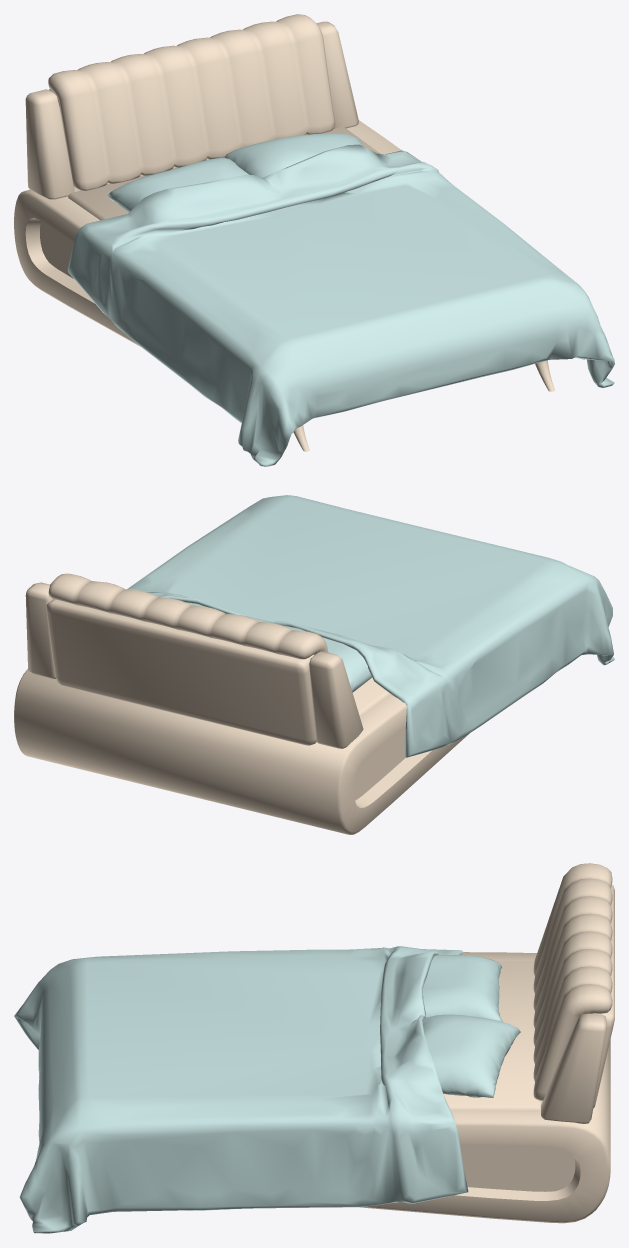
The model's file is SM_Bed_01.fbx.
3 renders of one model, top to bottom at view 1: azimuth 30°, elevation 25°; view 2: azimuth 150°, elevation 25°; view 3: azimuth 270°, elevation 25°, orthographic. The views are drawn at different scales.
Parts seen in each view (by area): view 1: SM_Bed_01; view 2: SM_Bed_01; view 3: SM_Bed_01.
Part boxes in pixels (x1,y1,x2,y2): SM_Bed_01: (14, 14, 614, 466); SM_Bed_01: (14, 495, 614, 834); SM_Bed_01: (14, 863, 614, 1233).
Size of the model in its own units: 199 by 101 by 259.
